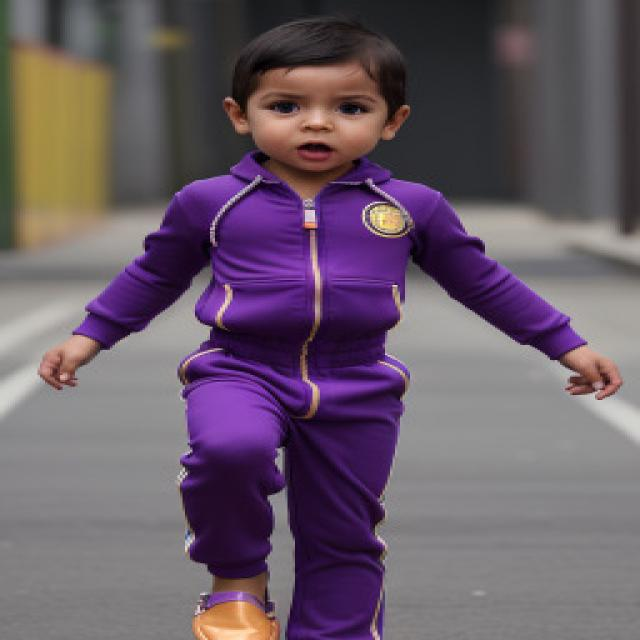Ai human 2: (16, 14, 620, 640)
